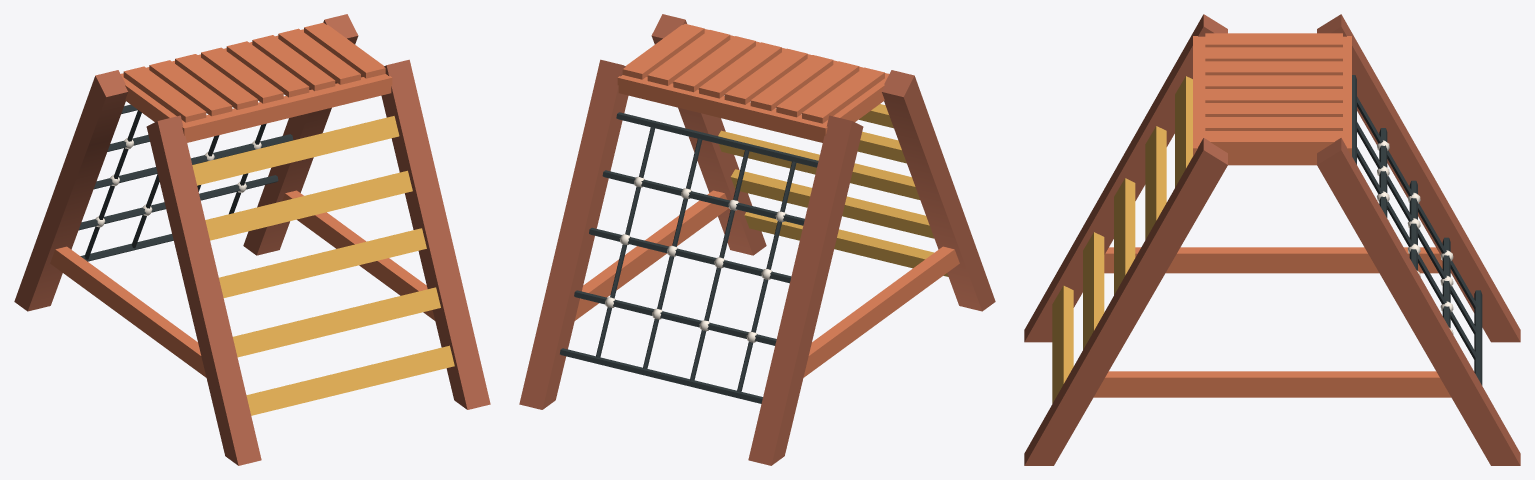
Rendered from ClimbingFrame_04.fbx.
3 renders of one model, left to right at view 1: azimuth 30°, elevation 25°; view 2: azimuth 150°, elevation 25°; view 3: azimuth 270°, elevation 25°, orthographic. The views are drawn at different scales.
Visible parts, largest first — view 1: ClimbingFrame_04; view 2: ClimbingFrame_04; view 3: ClimbingFrame_04.
Part boxes in pixels (x1=…): ClimbingFrame_04: x1=14, y1=14, x2=490, y2=465; ClimbingFrame_04: x1=519, y1=14, x2=995, y2=465; ClimbingFrame_04: x1=1024, y1=14, x2=1520, y2=465.
Size of the model in its own units: 1.84 by 1.99 by 2.84.
